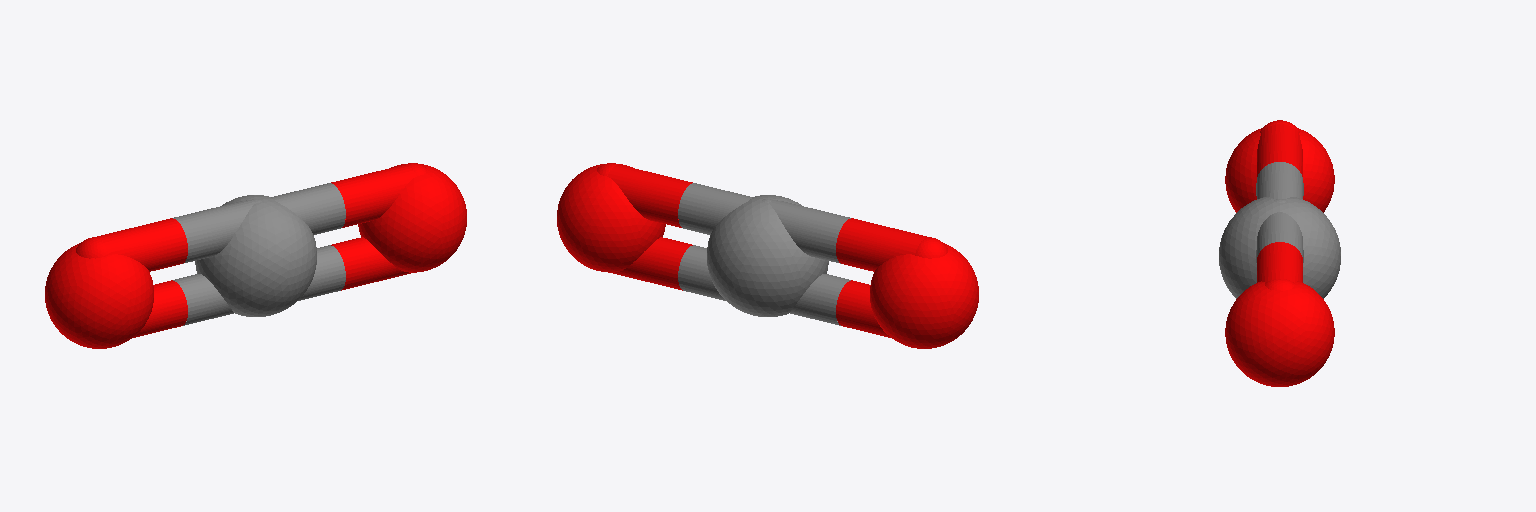
File: carbondioxide.obj
The picture shows the model from 3 angles: view 1: azimuth 30°, elevation 25°; view 2: azimuth 150°, elevation 25°; view 3: azimuth 270°, elevation 25°; orthographic projection.
Parts seen in each view (by area): view 1: C3_Atom, O2_Atom, O1_Atom, Cylinder3, Cylinder5, Cylinder4, Cylinder6, Cylinder7, Cylinder1, Cylinder2, Cylinder8; view 2: C3_Atom, O2_Atom, O1_Atom, Cylinder3, Cylinder5, Cylinder4, Cylinder6, Cylinder7, Cylinder1, Cylinder2, Cylinder8; view 3: O1_Atom, C3_Atom, O2_Atom, Cylinder3, Cylinder5, Cylinder4, Cylinder6.
Part boxes in pixels (x1,y1,x2,y2): C3_Atom: (195,195,316,316); O2_Atom: (45,243,153,348); O1_Atom: (358,163,466,272); Cylinder3: (97,218,187,271); Cylinder5: (331,165,416,227); Cylinder4: (173,200,255,263); Cylinder6: (271,183,345,234); Cylinder7: (331,237,410,290); Cylinder1: (133,280,187,337); Cylinder2: (173,274,233,325); Cylinder8: (298,245,345,300); C3_Atom: (707,195,828,316); O2_Atom: (870,243,978,348); O1_Atom: (557,163,665,272); Cylinder3: (836,218,926,271); Cylinder5: (607,165,692,227); Cylinder4: (769,200,850,263); Cylinder6: (678,183,751,234); Cylinder7: (613,237,692,290); Cylinder1: (836,280,890,337); Cylinder2: (790,274,850,325); Cylinder8: (678,245,725,300); O1_Atom: (1225,281,1334,386); C3_Atom: (1219,197,1340,298); O2_Atom: (1225,128,1334,212); Cylinder3: (1257,124,1302,176); Cylinder5: (1257,242,1302,282); Cylinder4: (1256,162,1303,199); Cylinder6: (1256,212,1303,262).
Bounding box in the file's own units: 3 × 0.784 × 0.782.